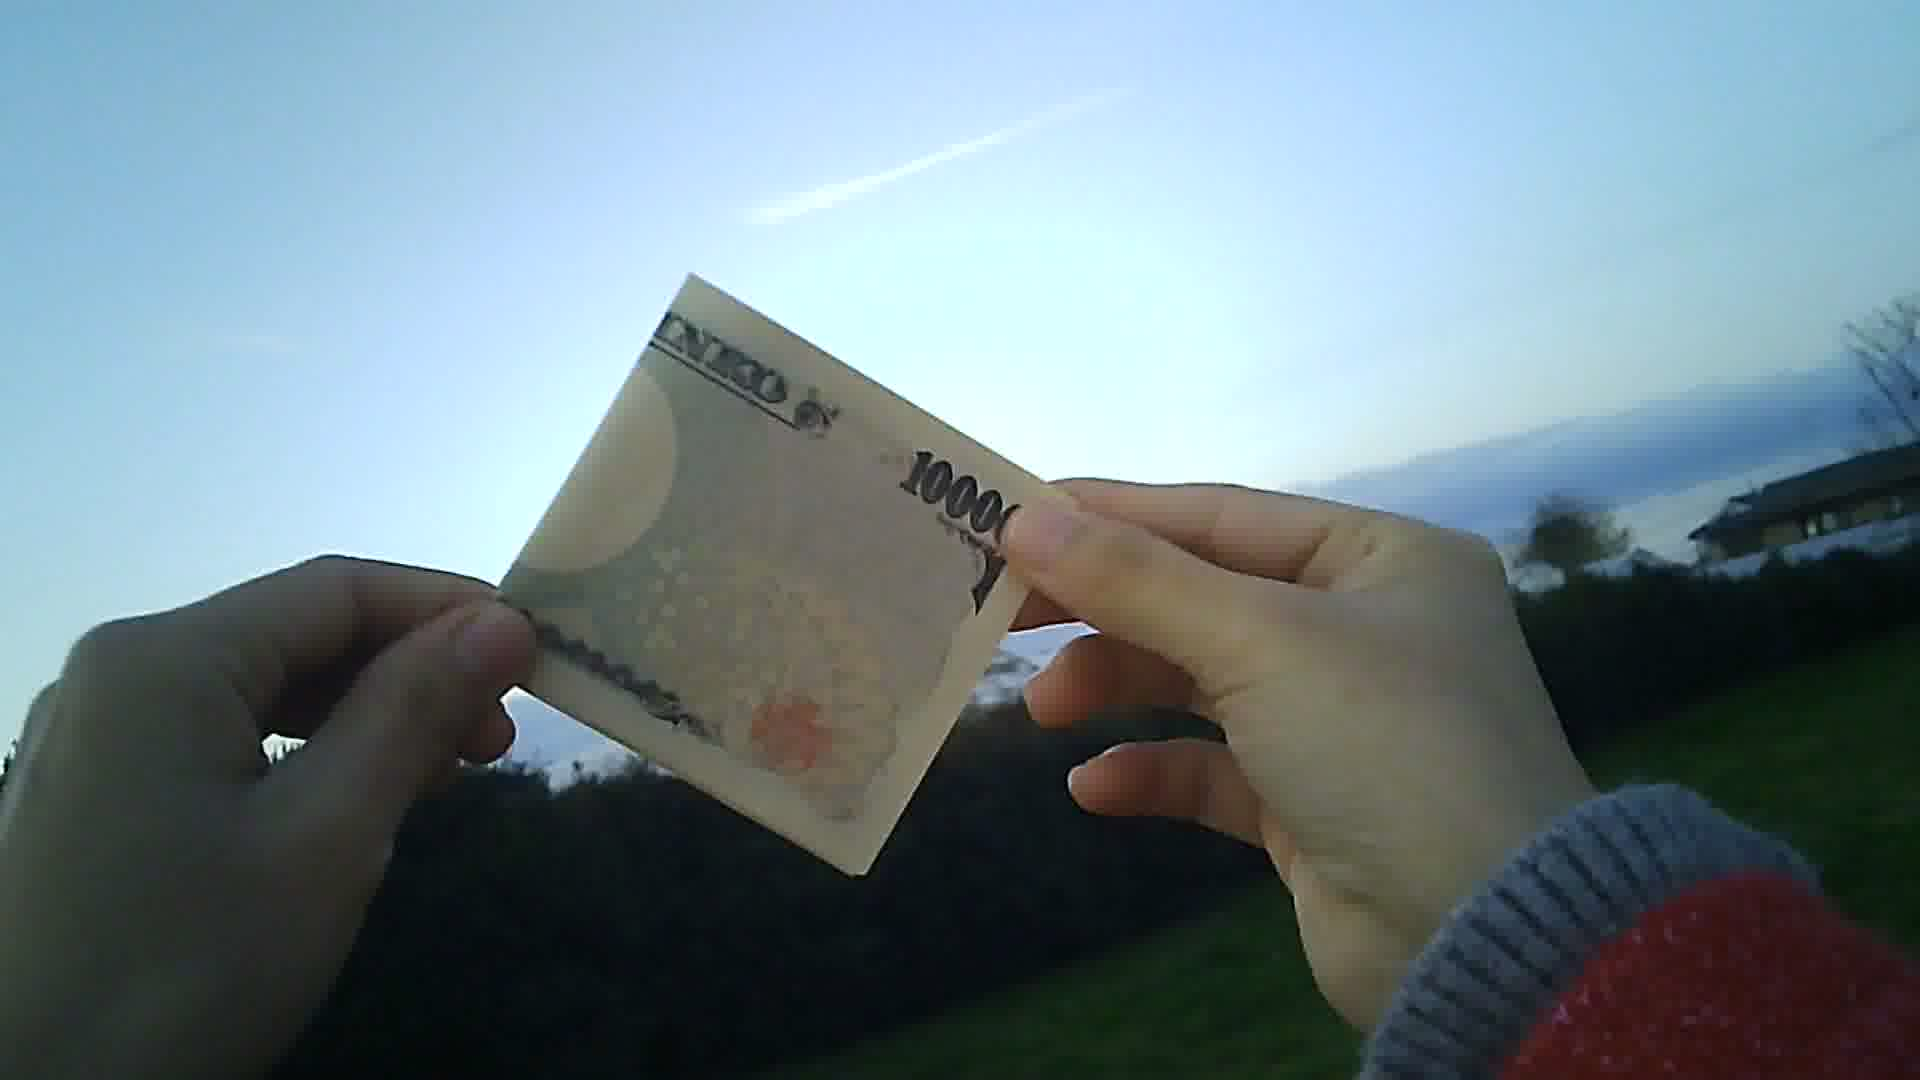10,000 Yen: (473, 272, 1060, 848)
